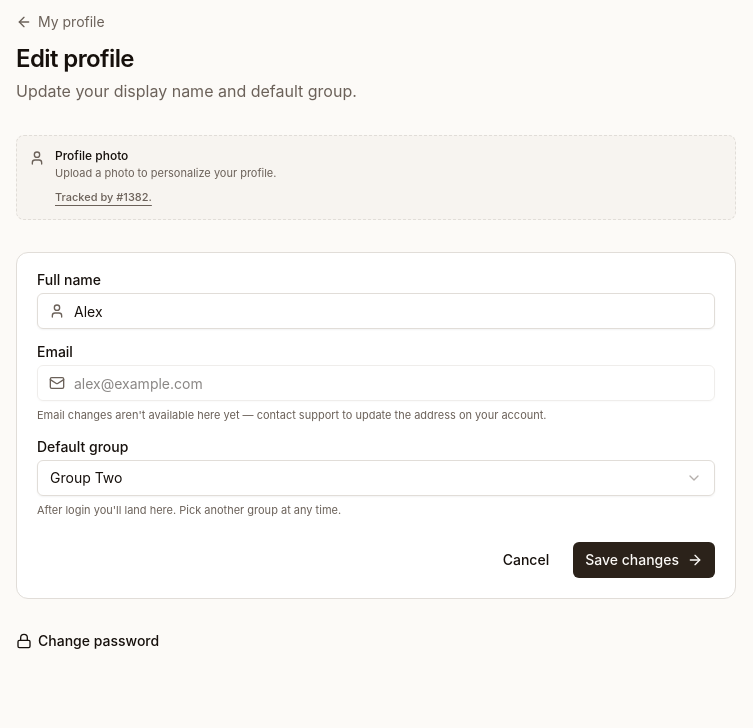
Scenario: <EditProfilePage /> › default-group is a shadcn Select; picking a group submits default_group_id
This screenshot has width=753, height=728.
Click the dropdown named "default group" at (86, 477), box [37,460,715,496]
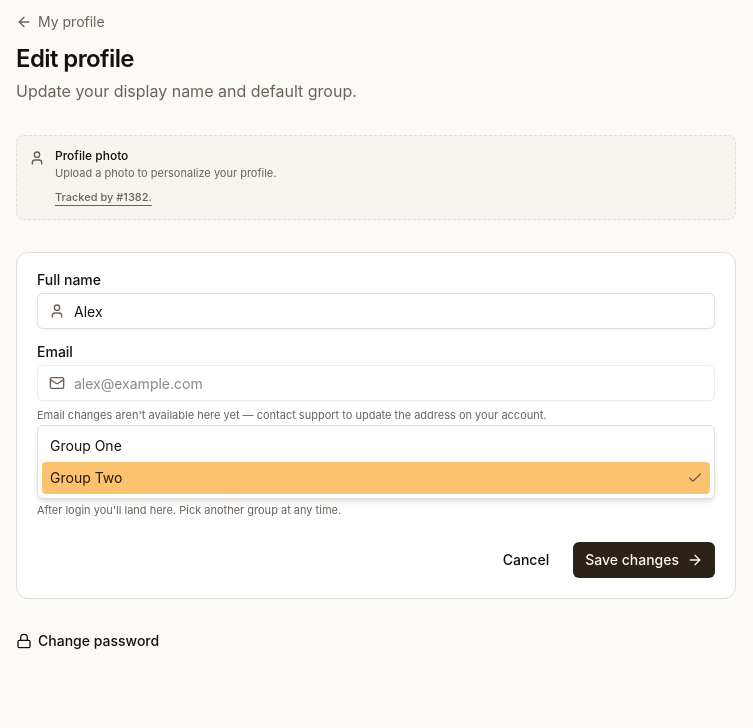
Click the option "Group One" at (86, 445), box [50,437,122,454]
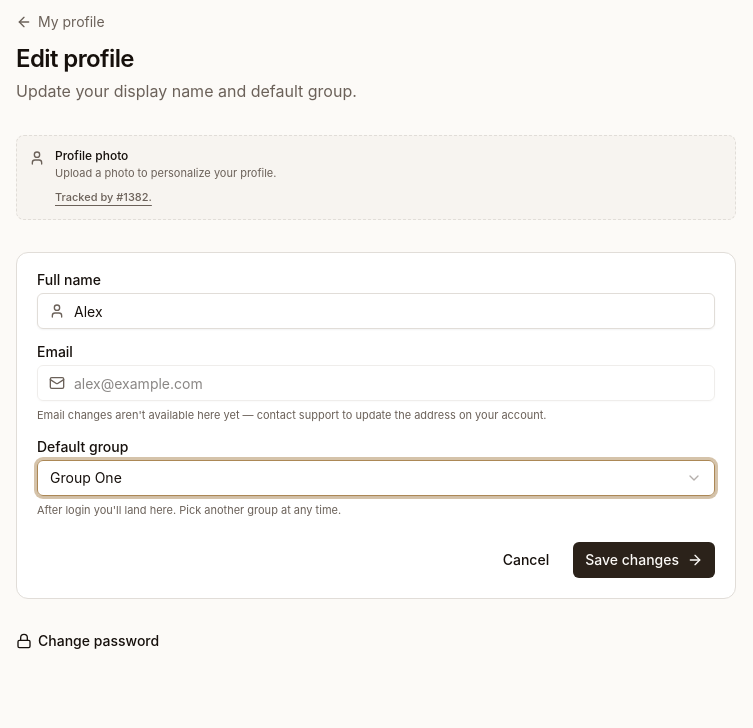
Click the button with test id "profile-save" at (644, 560), box [573,542,715,578]
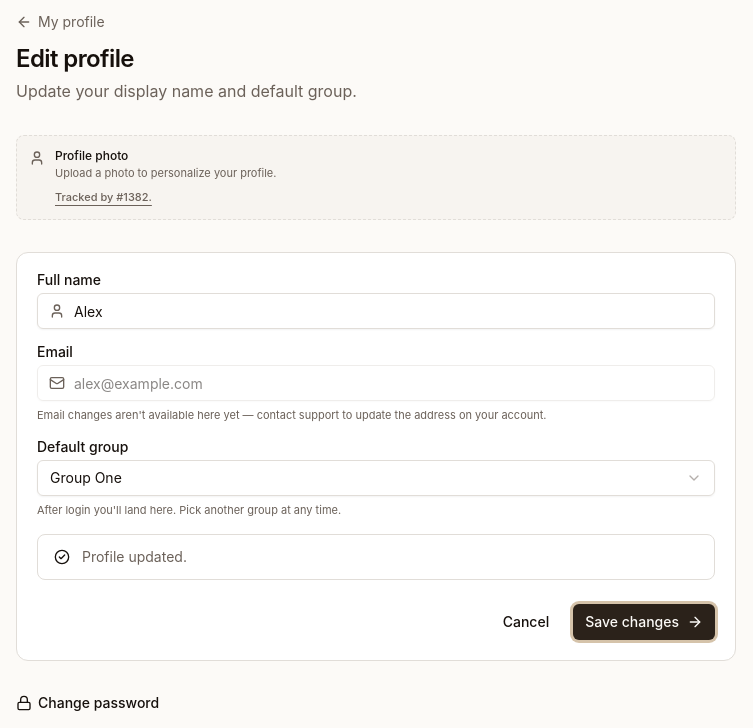
Check: the message "Profile updated." is shown, box [37,534,715,580]
